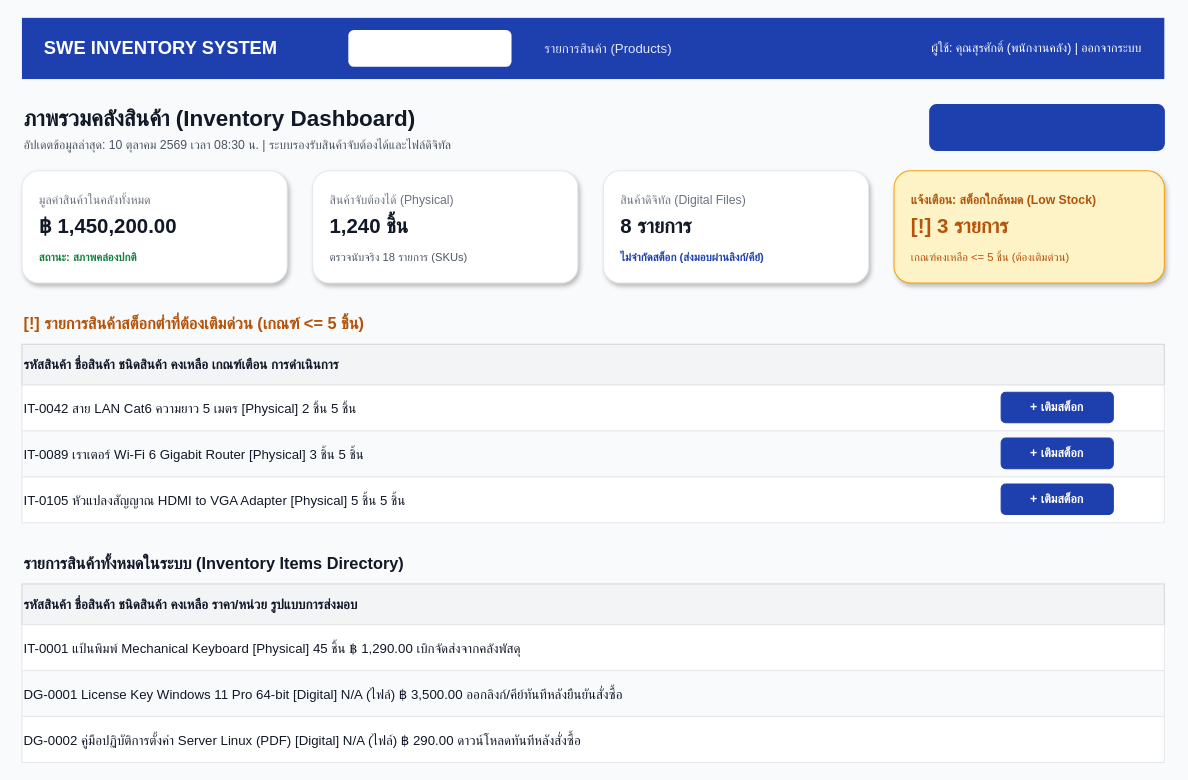
The diagram is 1188 pixels wide and 780 high, and some of its shapes have lost their labels. Here are the shapes that lost their labels. From the top down, the centre of each, then its label:
[429,48]: แดชบอร์ด (Dashboard)
[1046,127]: + เพิ่มสินค้าใหม่ (Add Product)
